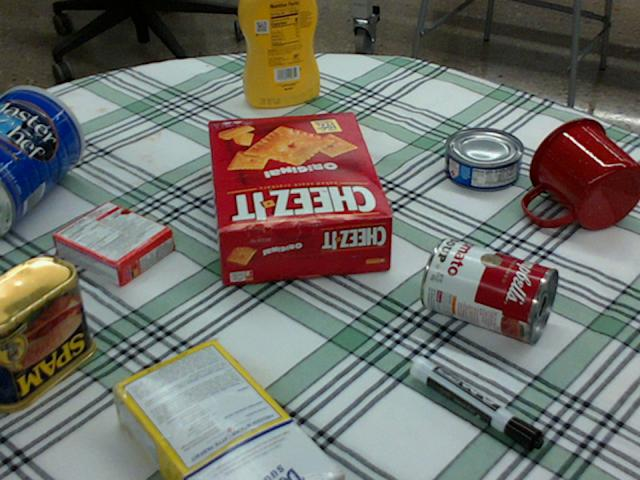cracker_box: (208, 111, 388, 282)
gelatin_box: (53, 199, 173, 287)
large_marker: (411, 356, 543, 453)
master_chef_can: (0, 86, 82, 239)
mug: (524, 118, 639, 230)
mustard_bottle: (238, 0, 319, 107)
potted_meat_can: (0, 254, 95, 409)
sugar_box: (106, 341, 341, 479)
tomato_soup_can: (419, 236, 557, 343)
tuna_fish_can: (444, 128, 524, 190)
